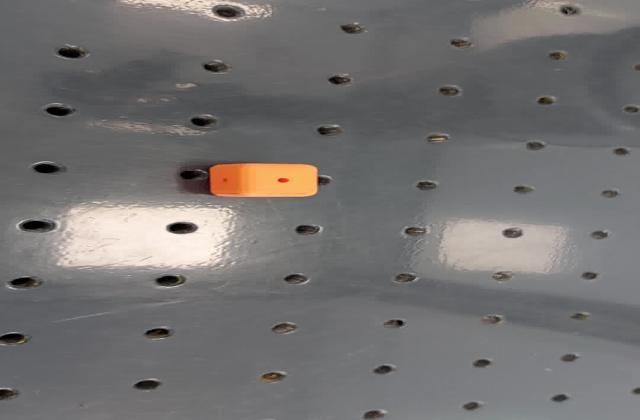cube: (200, 161, 330, 199)
